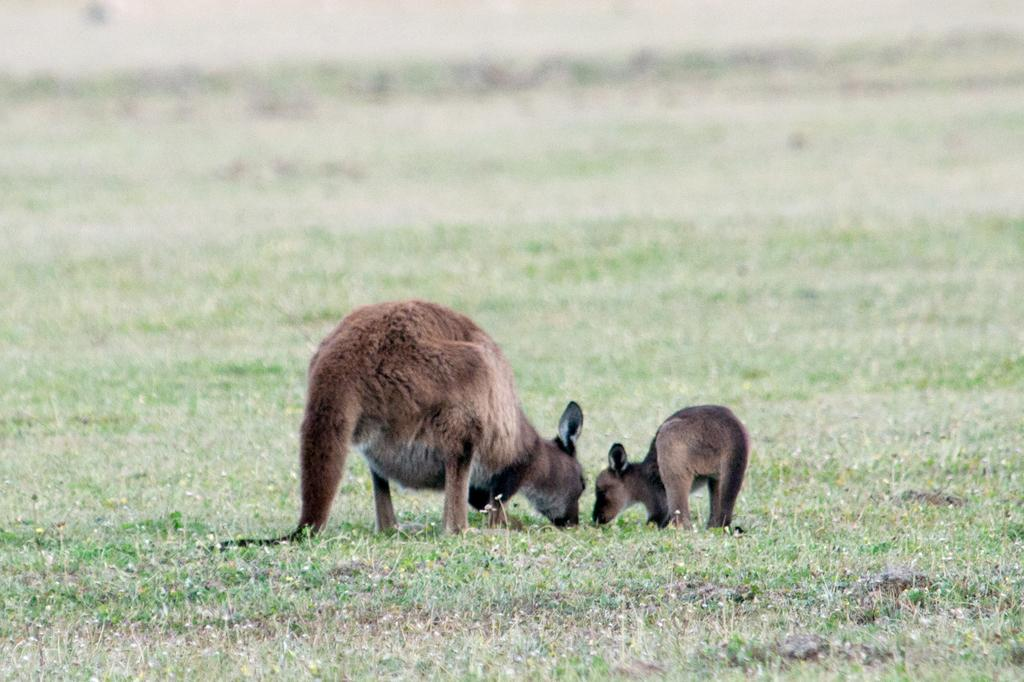kangaroo: (212, 294, 591, 544), (590, 403, 750, 532)
